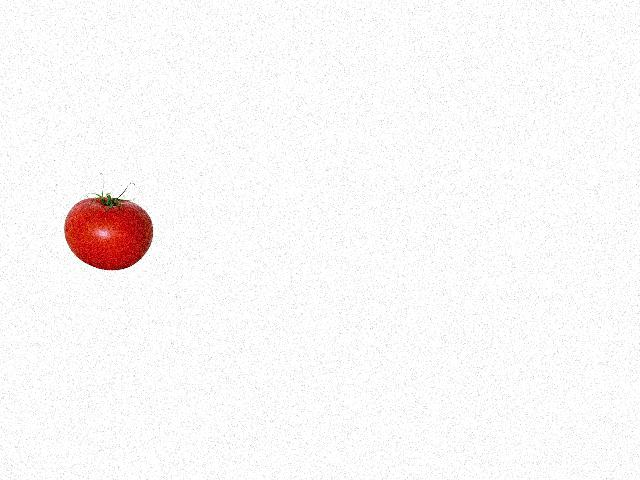tomato: (63, 197, 152, 270)
